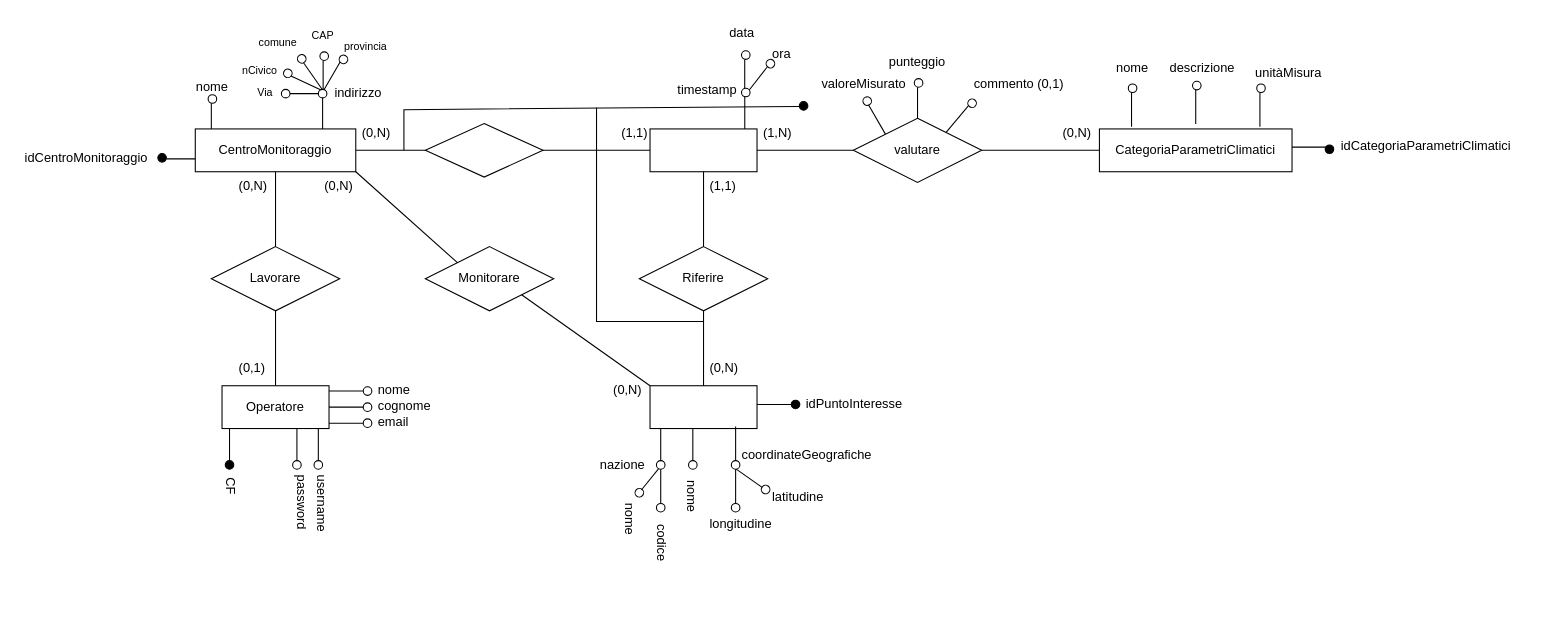
The diagram is 1566 pixels wide and 636 high, and some of its shapes have lost their labels. Each missing label, with the centre of its shape:
Misurazione: the point at 703,150
PuntoInteresse: the point at 703,407
Registrare: the point at 483,150
